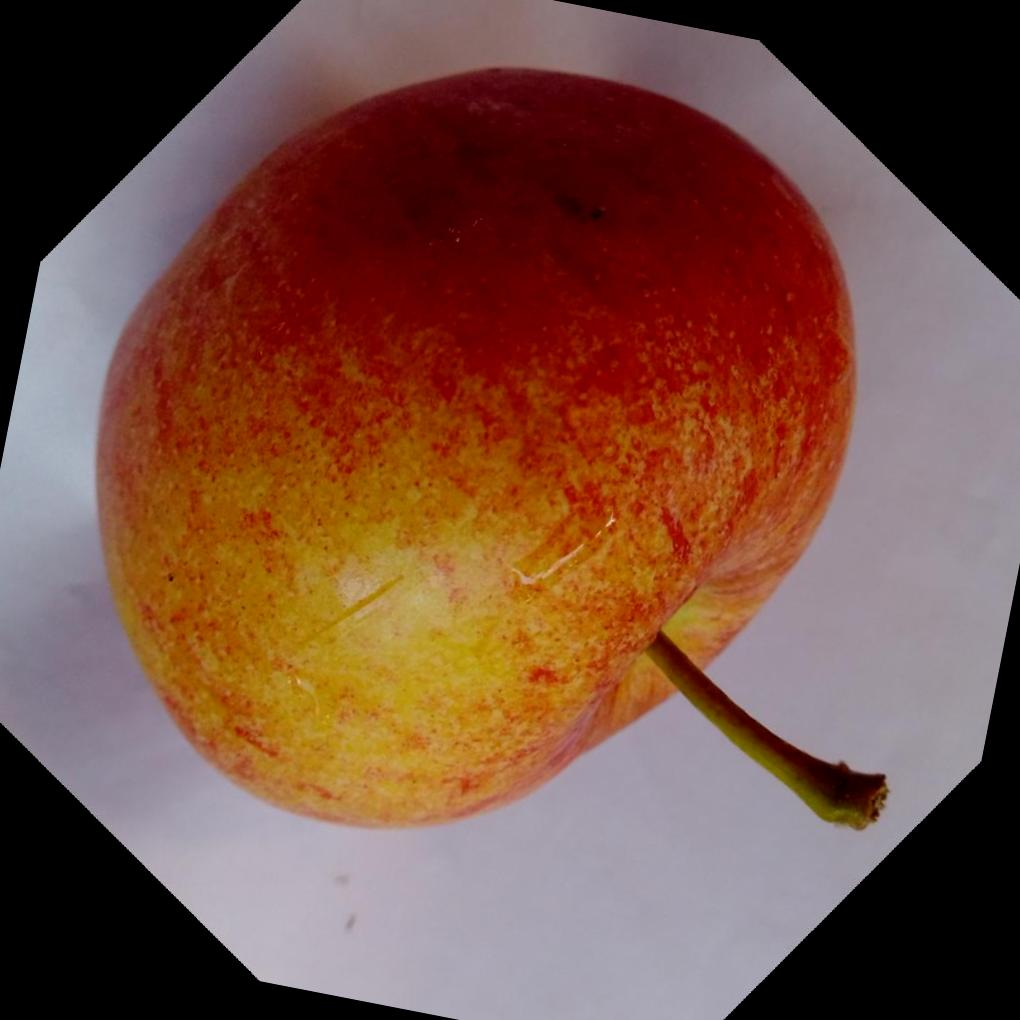FreshGuava: (93, 61, 858, 829)
